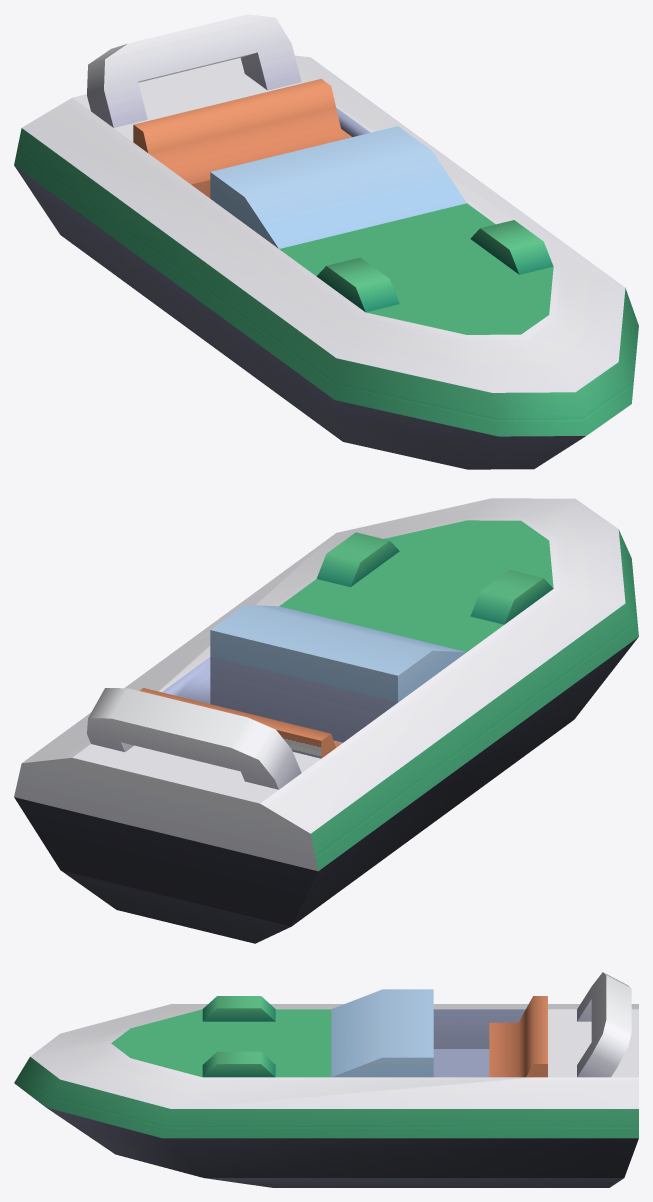
Rendered from boat-speed-j-transformed-transformed.glb.
3 renders of one model, top to bottom at view 1: azimuth 30°, elevation 25°; view 2: azimuth 150°, elevation 25°; view 3: azimuth 270°, elevation 25°, orthographic. The views are drawn at different scales.
Parts seen in each view (by area): view 1: boat-speed-j; view 2: boat-speed-j; view 3: boat-speed-j.
Part boxes in pixels (x1=…): boat-speed-j: x1=14, y1=14, x2=638, y2=469; boat-speed-j: x1=14, y1=498, x2=638, y2=943; boat-speed-j: x1=14, y1=972, x2=638, y2=1187.
Bounding box in the file's own units: 1.79 × 1.25 × 4.27.
1 material, 1 textured.
